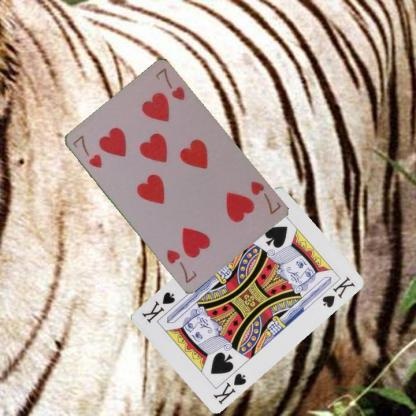7h: (247, 178, 282, 216), (69, 132, 103, 170)
Ks: (210, 370, 248, 405)
